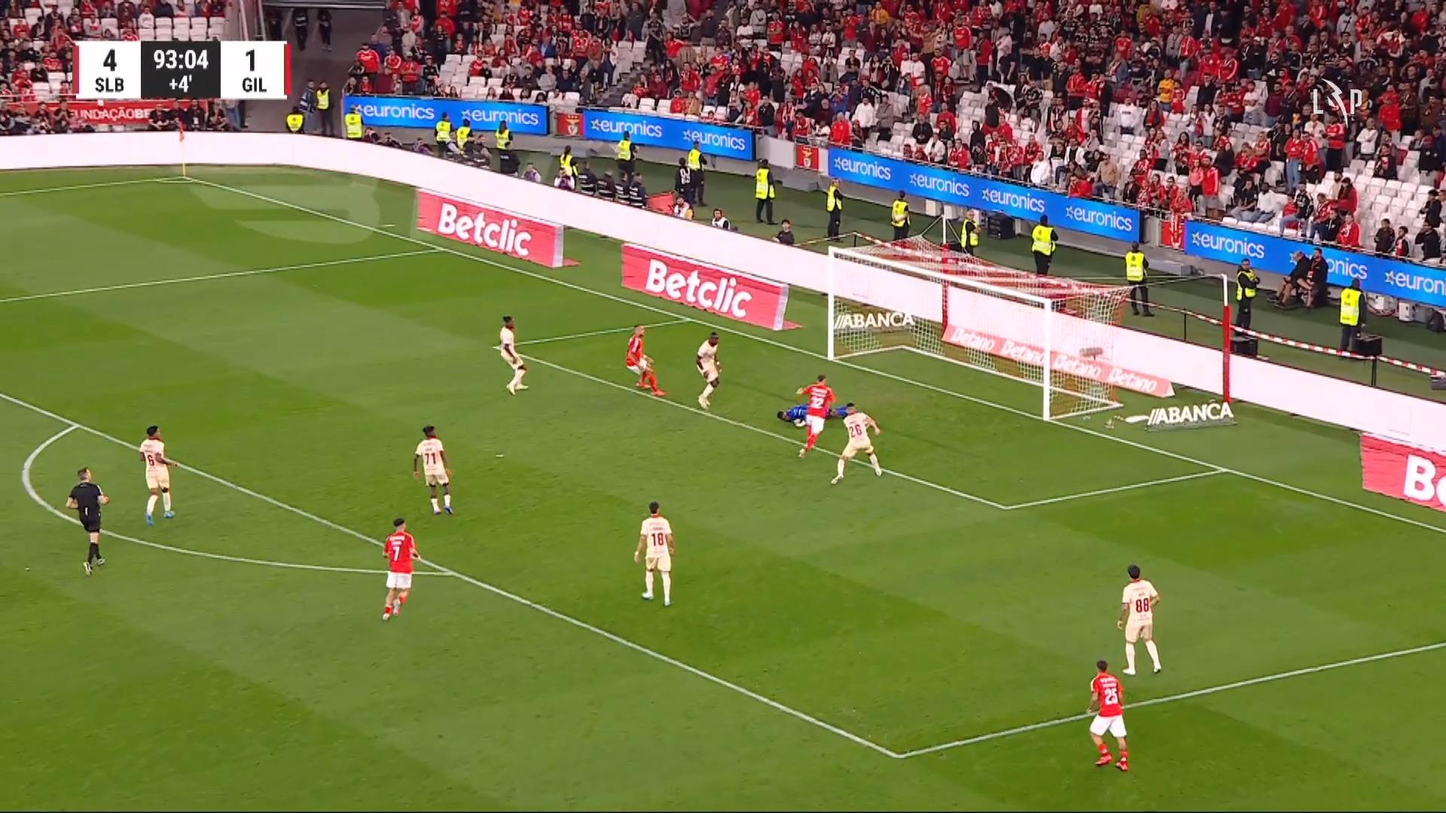goalkeeper: (776, 400, 853, 428)
player: (1115, 564, 1162, 675), (1085, 659, 1130, 772), (826, 400, 883, 484), (633, 501, 675, 607), (380, 516, 420, 621), (139, 424, 178, 525), (412, 424, 454, 515), (795, 373, 834, 458), (624, 324, 667, 397), (497, 315, 529, 395), (694, 331, 721, 410), (776, 402, 808, 428)
referee: (65, 465, 109, 576)
